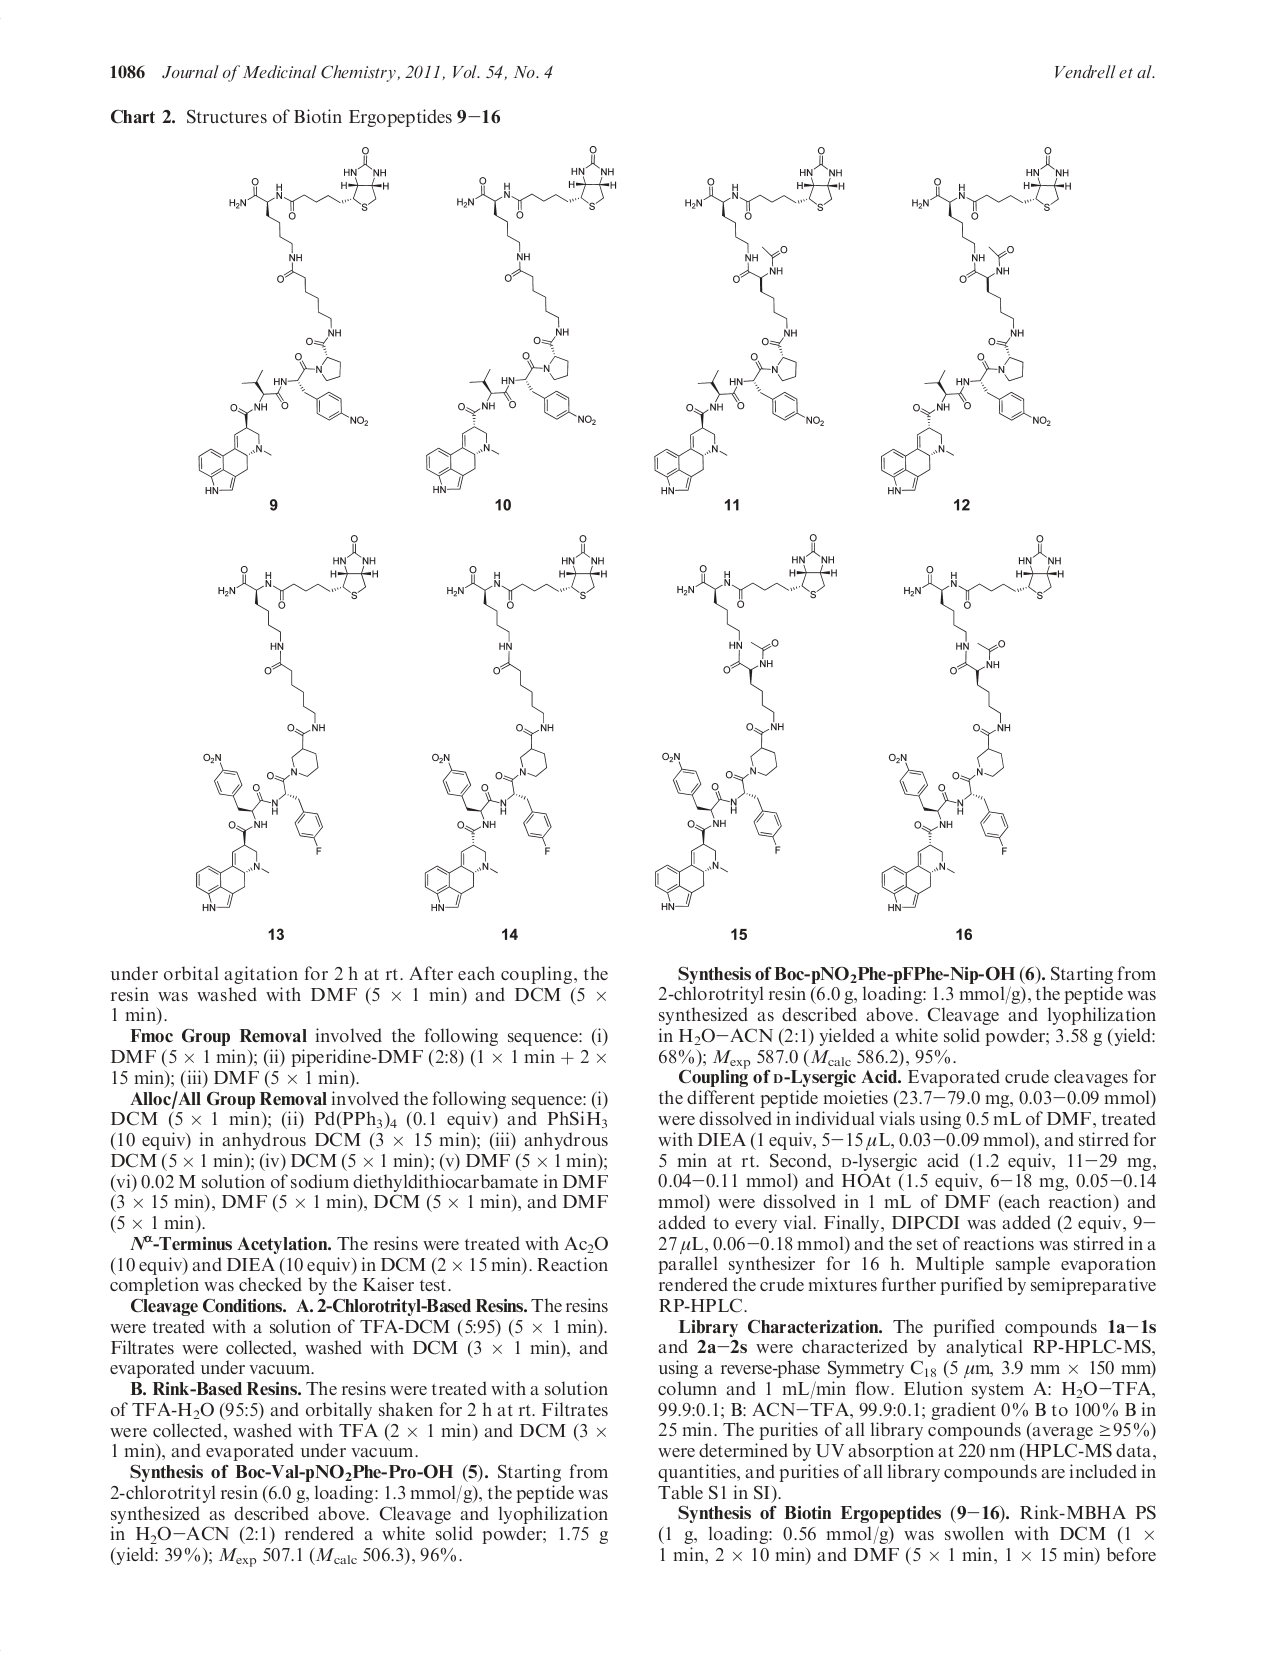exist_molecular: (418, 531, 613, 915), (191, 532, 383, 914), (650, 531, 840, 914), (879, 531, 1067, 914), (193, 145, 392, 497), (876, 144, 1073, 496), (423, 140, 617, 496), (650, 144, 847, 495)
